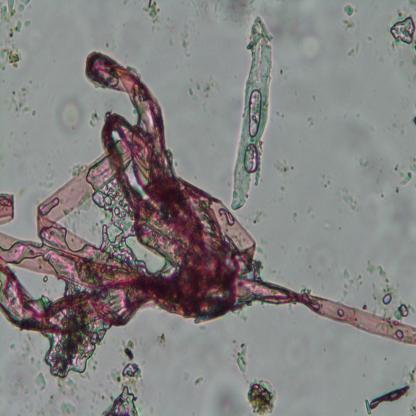Background material: (355, 260, 412, 322), (100, 339, 142, 415), (0, 1, 34, 72), (206, 374, 251, 414), (365, 381, 413, 414), (388, 6, 416, 49), (247, 378, 280, 414), (57, 94, 85, 135), (216, 0, 255, 29), (9, 80, 36, 117), (391, 155, 416, 190), (53, 378, 77, 414), (231, 338, 250, 377), (144, 0, 162, 34), (338, 184, 359, 212), (184, 77, 216, 95), (275, 156, 293, 180), (180, 23, 191, 58), (341, 4, 354, 33), (36, 370, 48, 393), (347, 42, 364, 57), (156, 330, 167, 348)
Cellulose filter fibre: (229, 14, 276, 210)
Cotton: (0, 44, 416, 345)
